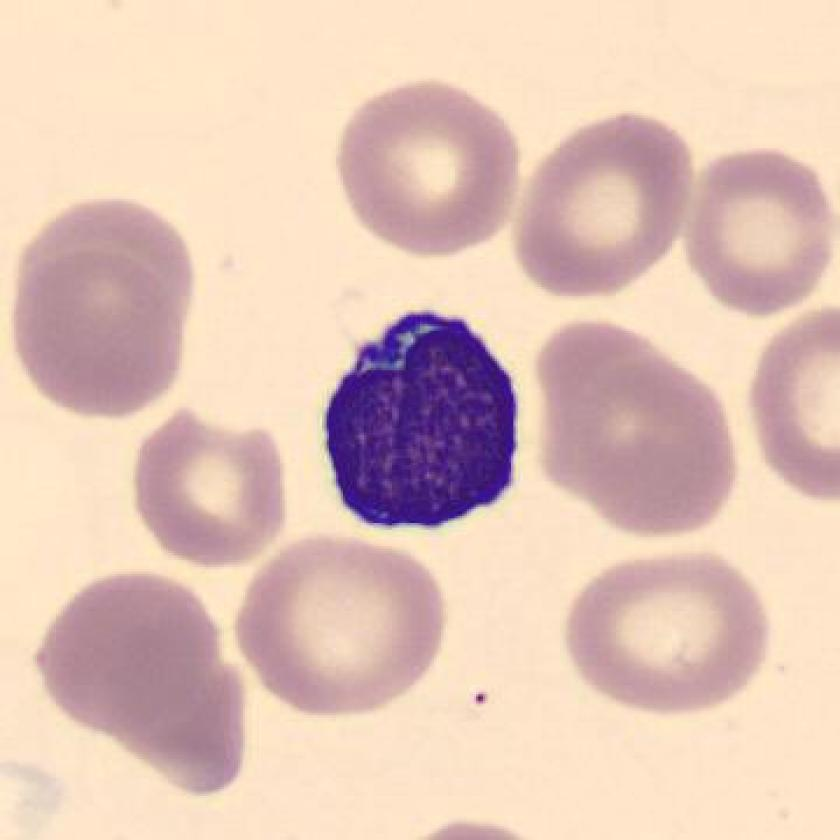lymphocyte: (307, 290, 542, 552)
